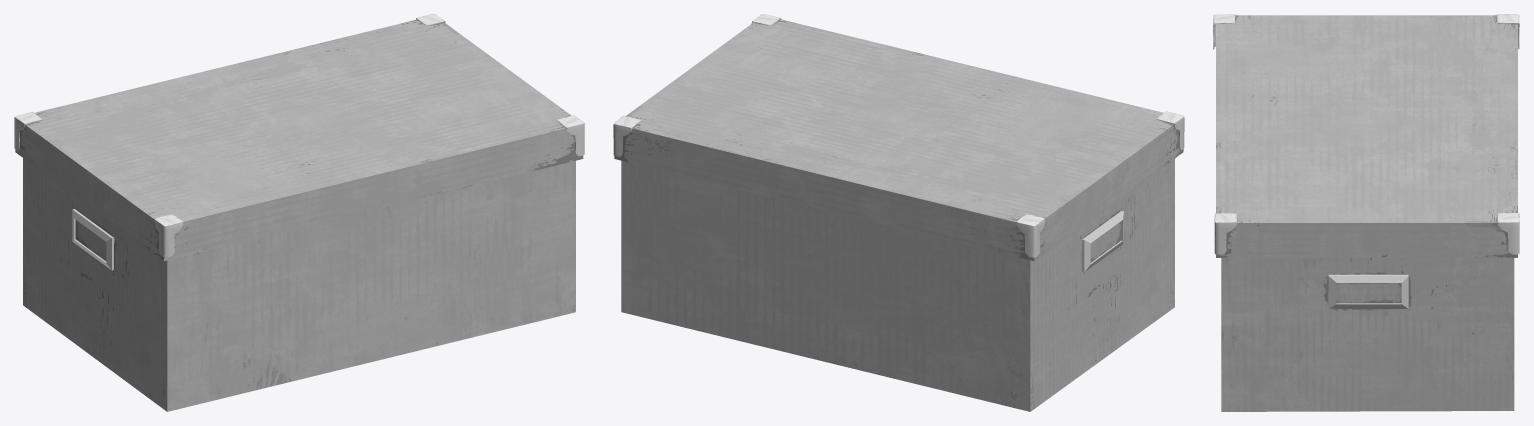
The picture shows the model from 3 angles, left to right: view 1: azimuth 30°, elevation 25°; view 2: azimuth 150°, elevation 25°; view 3: azimuth 270°, elevation 25°; orthographic projection.
Parts seen in each view (by area): view 1: SM_Box_A2; view 2: SM_Box_A2; view 3: SM_Box_A2.
Boxes of the visible parts, x1,y1,x2,y2 form: SM_Box_A2: (14, 14, 584, 411); SM_Box_A2: (613, 14, 1184, 411); SM_Box_A2: (1213, 14, 1519, 411).
Size of the model in its own units: 42.96 by 26.66 by 18.48.
1 material, 1 textured.
